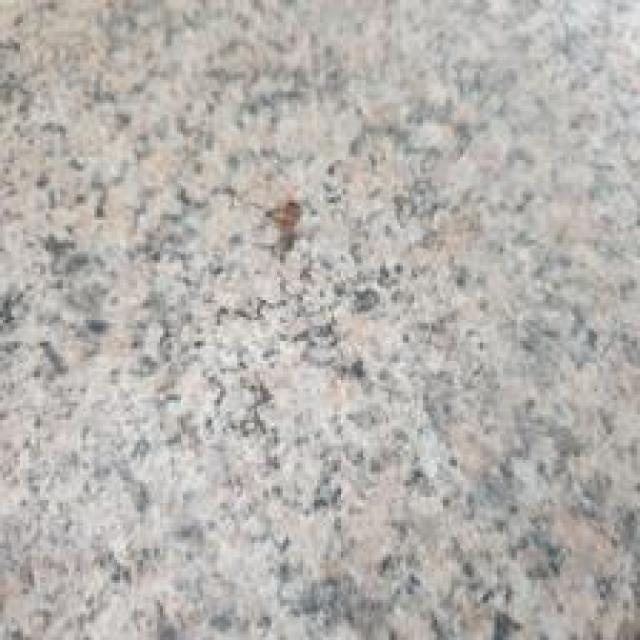Culex: (264, 197, 304, 234)
